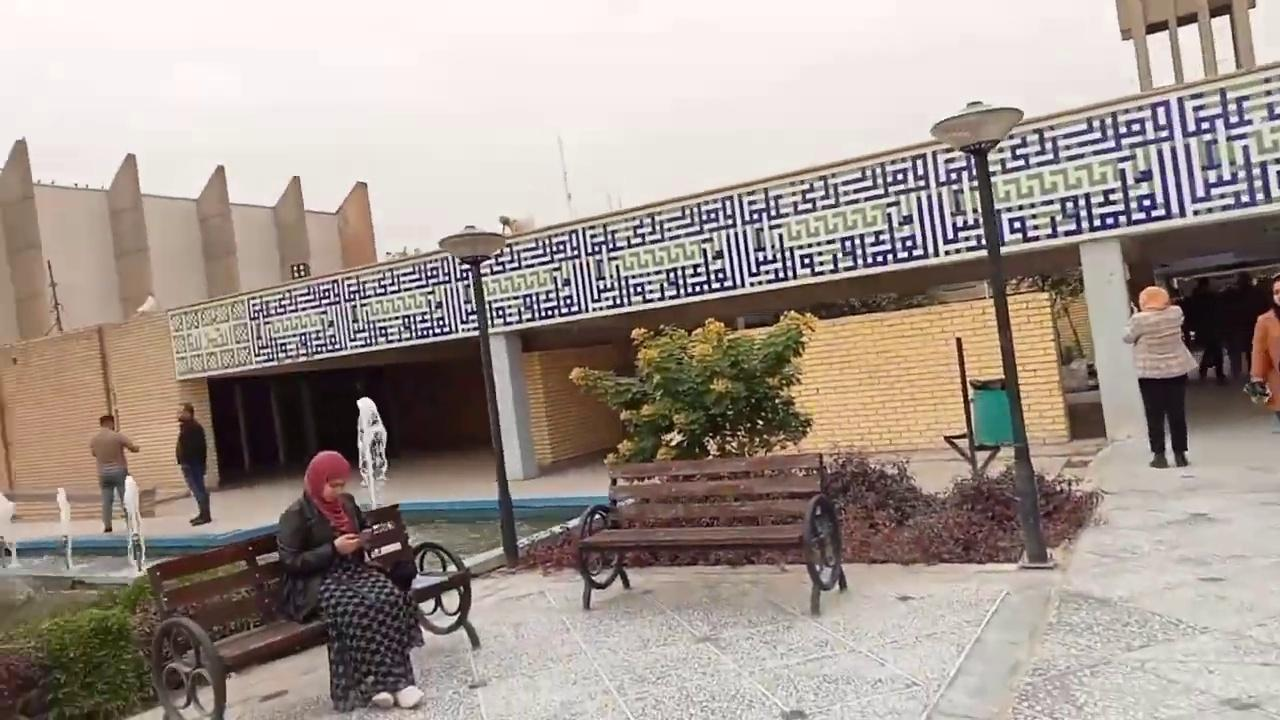fountain: (1, 486, 603, 636), (0, 475, 172, 629), (354, 394, 389, 509), (120, 472, 147, 572), (52, 485, 75, 570)
person: (275, 449, 426, 712), (1121, 285, 1198, 467), (89, 414, 140, 532), (1247, 273, 1279, 433), (1184, 276, 1230, 384), (174, 402, 212, 526)
tree: (568, 307, 819, 464), (1, 572, 161, 718), (1004, 265, 1088, 369)
